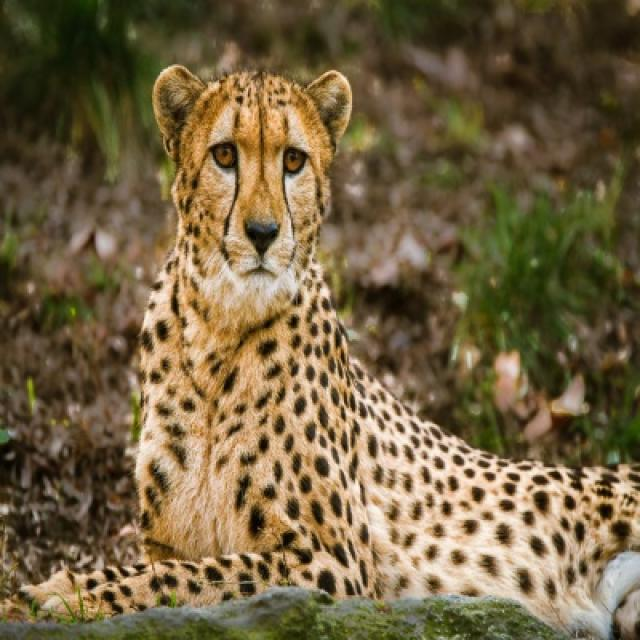Cheetah: (25, 67, 638, 629)
